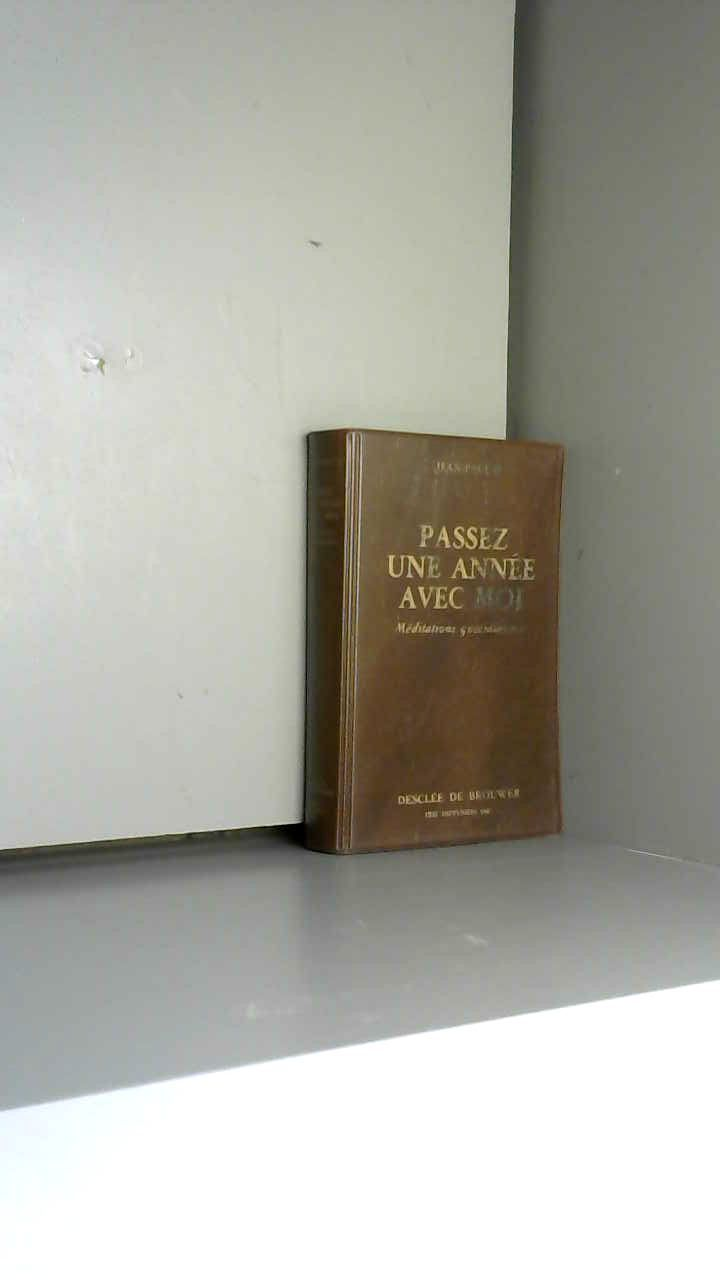book: (268, 393, 594, 892)
